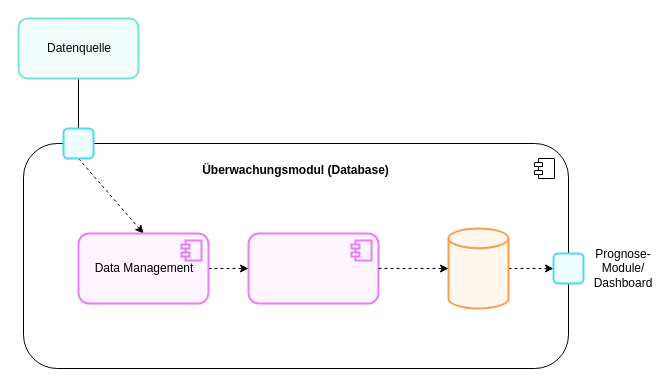
This 670x386 diagram has some shape labels left out. The shapes that lost their labels are listed below. From the top down, each one's centre as x and y in pixels, then its label:
(313,268): Repository
(478,268): Time Series DB
